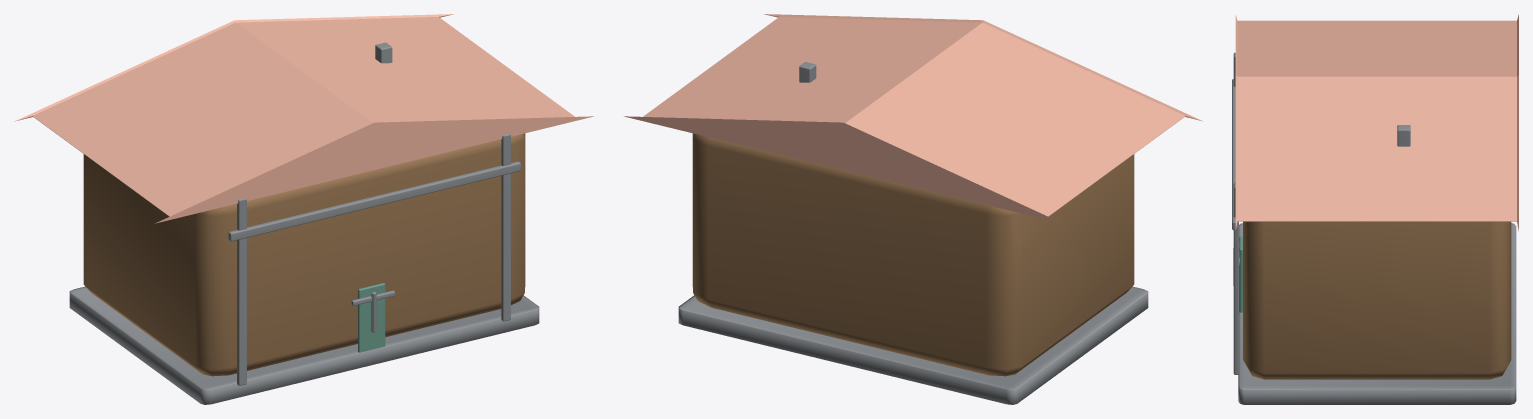
Rendered from barn.glb.
3 renders of one model, left to right at view 1: azimuth 30°, elevation 25°; view 2: azimuth 150°, elevation 25°; view 3: azimuth 270°, elevation 25°, orthographic.
Parts seen in each view (by area): view 1: barn_root; view 2: barn_root; view 3: barn_root.
Boxes of the visible parts, <box> form: barn_root: <box>15,14,593,404</box>; barn_root: <box>624,14,1202,404</box>; barn_root: <box>1232,14,1518,404</box>.
Size of the model in its own units: 8.52 by 4.5 by 4.74.
